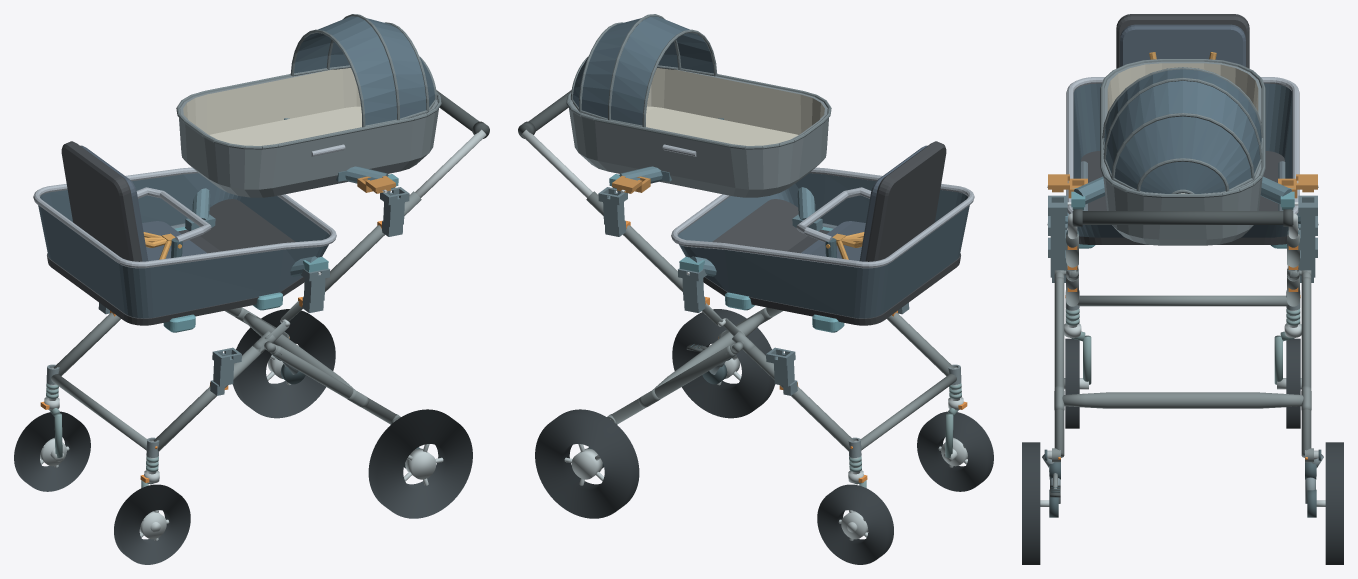
Rendered from D21_w650_state1_wheel_M.glb.
3 views of the same model, side by side, from view 1: azimuth 30°, elevation 25°; view 2: azimuth 150°, elevation 25°; view 3: azimuth 270°, elevation 25° (orthographic). The views are drawn at different scales.
Visible parts, largest first — view 1: D21_Lower, D21_Upper, RL_tire.008, RR_tire.008, FL_tire.008, FR_tire.008, V46_rear_leg_-1.009, main_lower_-1.009, D21_Lower_Mount_M, front_fixed_round_tube.008, main_upper_-1.009, Universal_Cabin_Receiver_H_-1 (+8 smaller); view 2: D21_Lower, D21_Upper, RR_tire.008, RL_tire.008, FR_tire.008, FL_tire.008, V46_rear_leg_1.009, main_lower_1.009, D21_Lower_Mount_M, front_fixed_round_tube.008, main_upper_1.009, Universal_Cabin_Receiver_H_1 (+8 smaller); view 3: D21_Upper, D21_Lower, V46_rearbar.009, round_handle.008, front_fixed_round_tube.008, RL_tire.008, RR_tire.008, V46_rear_leg_1.009, V46_rear_leg_-1.009, D21_Upper_Mount_H, FL_tire.008, FR_tire.008 (+8 smaller).
Boxes of the visible parts, x1,y1,x2,y2 form: D21_Lower: (33,141,336,332); D21_Upper: (176,14,441,197); RL_tire.008: (368,409,472,518); RR_tire.008: (232,309,335,418); FL_tire.008: (114,484,190,564); FR_tire.008: (14,411,90,491); V46_rear_leg_-1.009: (272,345,396,424); main_lower_-1.009: (153,346,264,451); D21_Lower_Mount_M: (185,188,328,276); front_fixed_round_tube.008: (51,374,147,450); main_upper_-1.009: (303,191,421,296); Universal_Cabin_Receiver_H_-1: (380,187,409,236); D21_Lower: (671,141,974,332); D21_Upper: (566,14,831,197); RR_tire.008: (535,409,639,518); RL_tire.008: (672,309,775,418); FR_tire.008: (817,484,893,564); FL_tire.008: (917,411,993,491); V46_rear_leg_1.009: (611,345,735,424); main_lower_1.009: (743,346,854,451); D21_Lower_Mount_M: (679,187,822,276); front_fixed_round_tube.008: (860,374,956,450); main_upper_1.009: (586,191,704,296); Universal_Cabin_Receiver_H_1: (598,187,627,236); D21_Upper: (1100,59,1265,245); D21_Lower: (1066,14,1299,248); V46_rearbar.009: (1062,392,1303,408); round_handle.008: (1072,211,1293,224); front_fixed_round_tube.008: (1077,295,1288,306); RL_tire.008: (1022,442,1040,564); RR_tire.008: (1325,442,1343,564); V46_rear_leg_1.009: (1301,277,1311,457); V46_rear_leg_-1.009: (1054,277,1064,457); D21_Upper_Mount_H: (1067,176,1298,210); FL_tire.008: (1065,338,1079,428); FR_tire.008: (1286,338,1300,428).
Size of the model in its own units: 1.16 by 1.32 by 0.7871.
